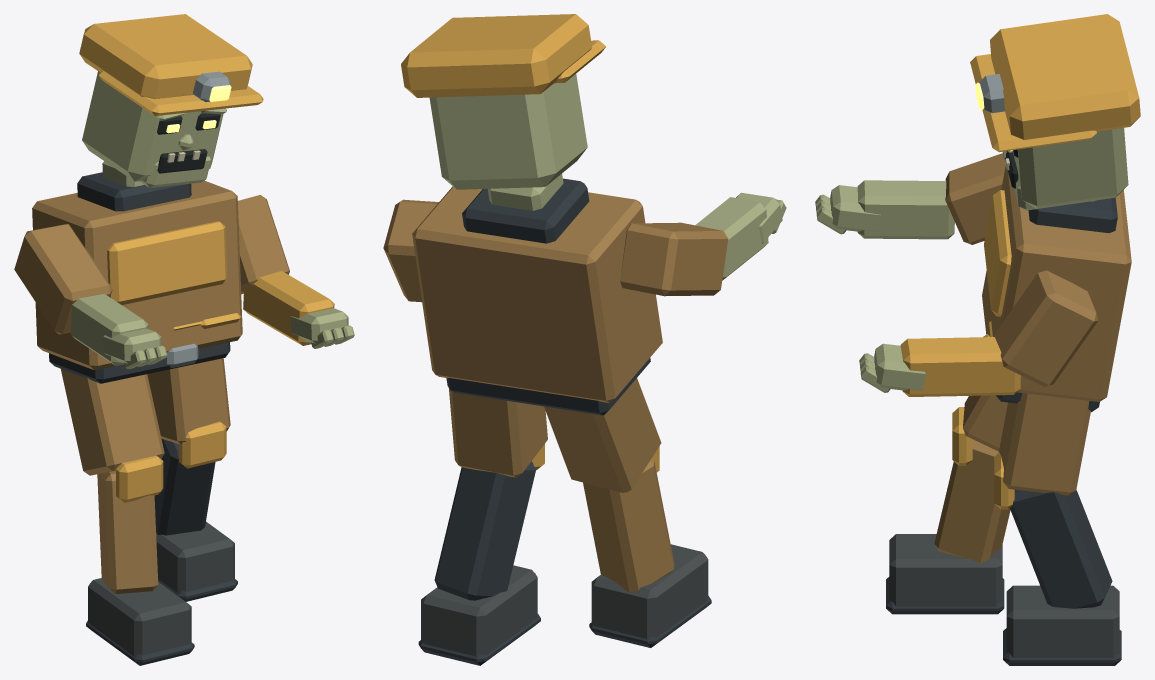
File: zumbi-1.glb
The picture shows the model from 3 angles, left to right: view 1: azimuth 30°, elevation 25°; view 2: azimuth 150°, elevation 25°; view 3: azimuth 270°, elevation 25°; orthographic projection. The views are drawn at different scales.
Visible parts, largest first — view 1: Jaqueta rasgada.001; view 2: Jaqueta rasgada.001; view 3: Jaqueta rasgada.001.
Part boxes in pixels (bbox=[...]): Jaqueta rasgada.001: bbox=[14, 14, 354, 665]; Jaqueta rasgada.001: bbox=[383, 14, 786, 665]; Jaqueta rasgada.001: bbox=[815, 14, 1140, 665].
Bounding box in the file's own units: 1.06 × 2.21 × 1.08.
